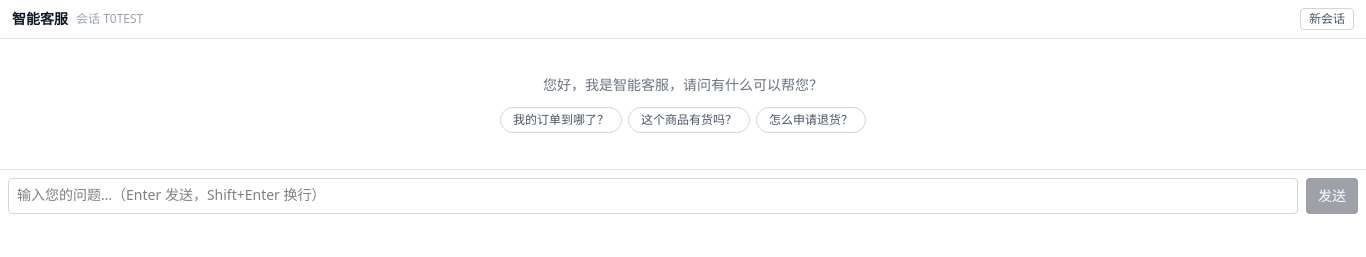
Scenario: SupportPanel › 错误展示为 alert 并带重试按钮
Type "hi" into the text box with placeholder "输入您的问题…（Enter 发送，Shift+Enter 换行）" at (653, 196), box [8,178,1298,214]
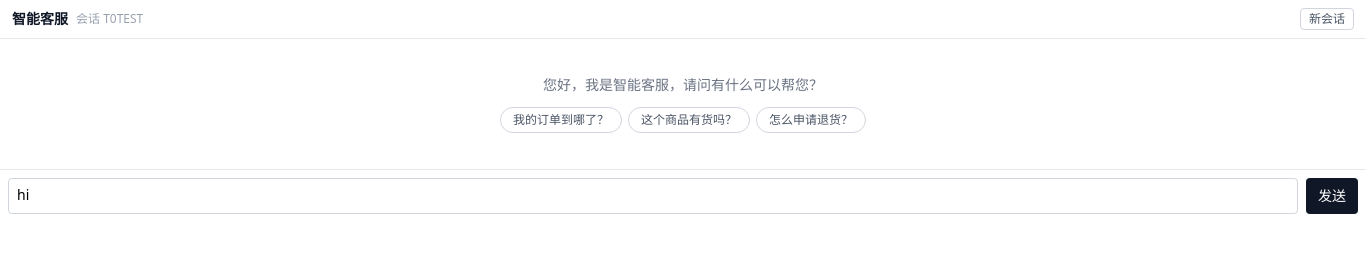
Click the button "发送" at (1332, 196), box [1306,178,1358,214]
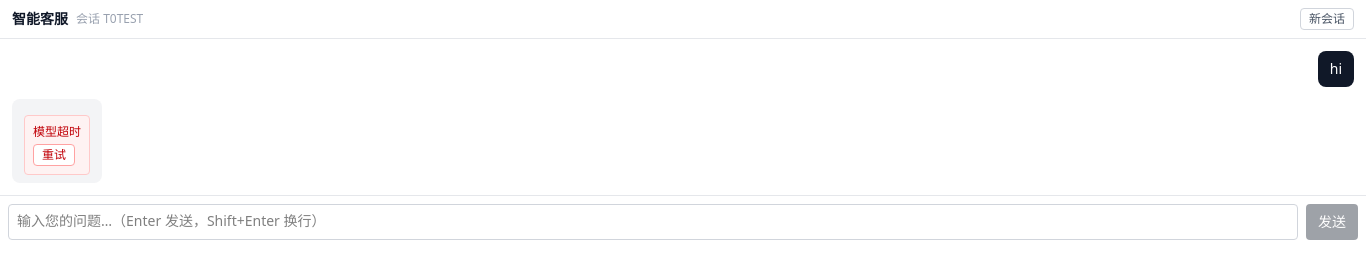
Expected: the message "模型超时 重试" is shown, [24,115,90,175]
Expected: the text "模型超时" is shown, [33,124,81,140]
Expected: the button "重试" is shown, [33,144,75,166]
